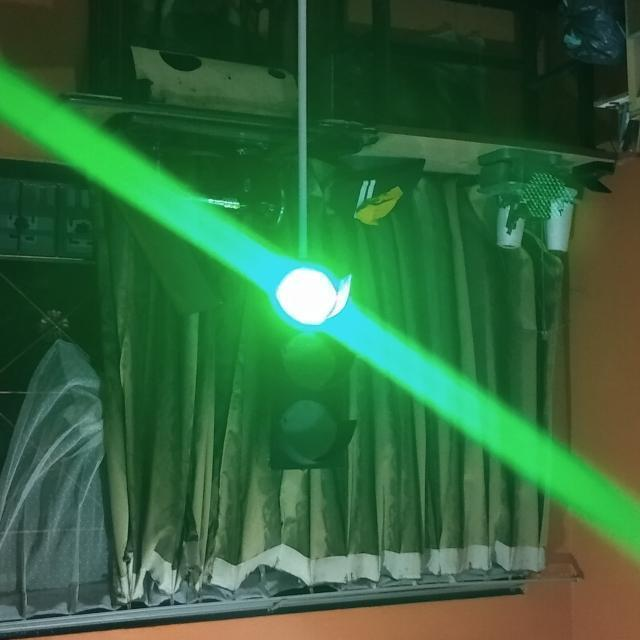green_light: (270, 258, 349, 466)
